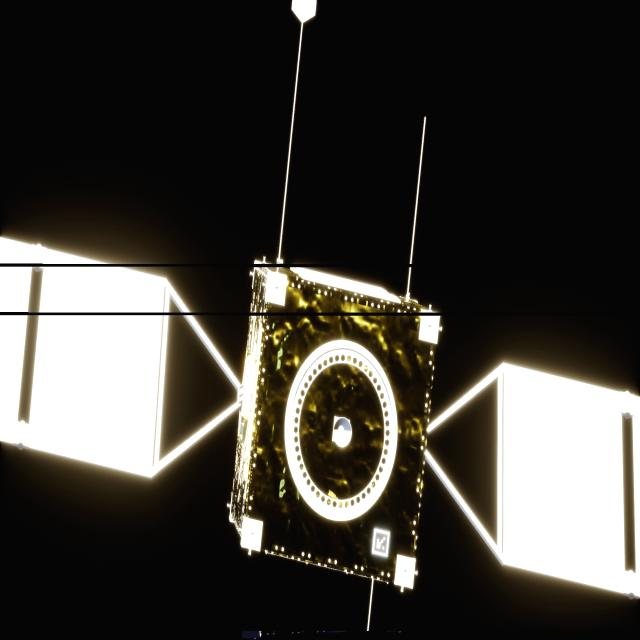medium_debris: (0, 263, 640, 601)
